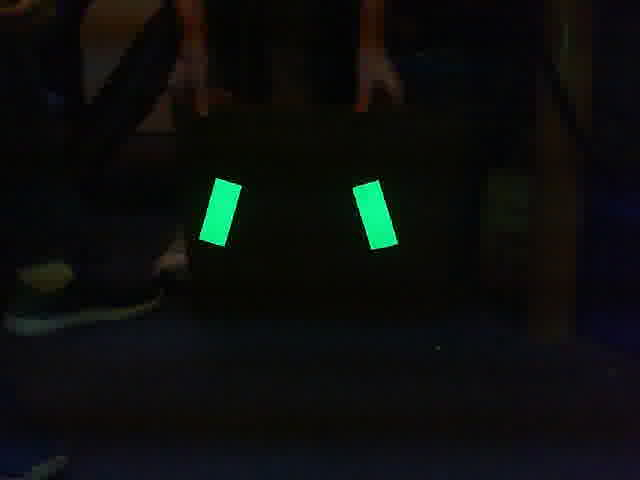target: (198, 177, 399, 251)
